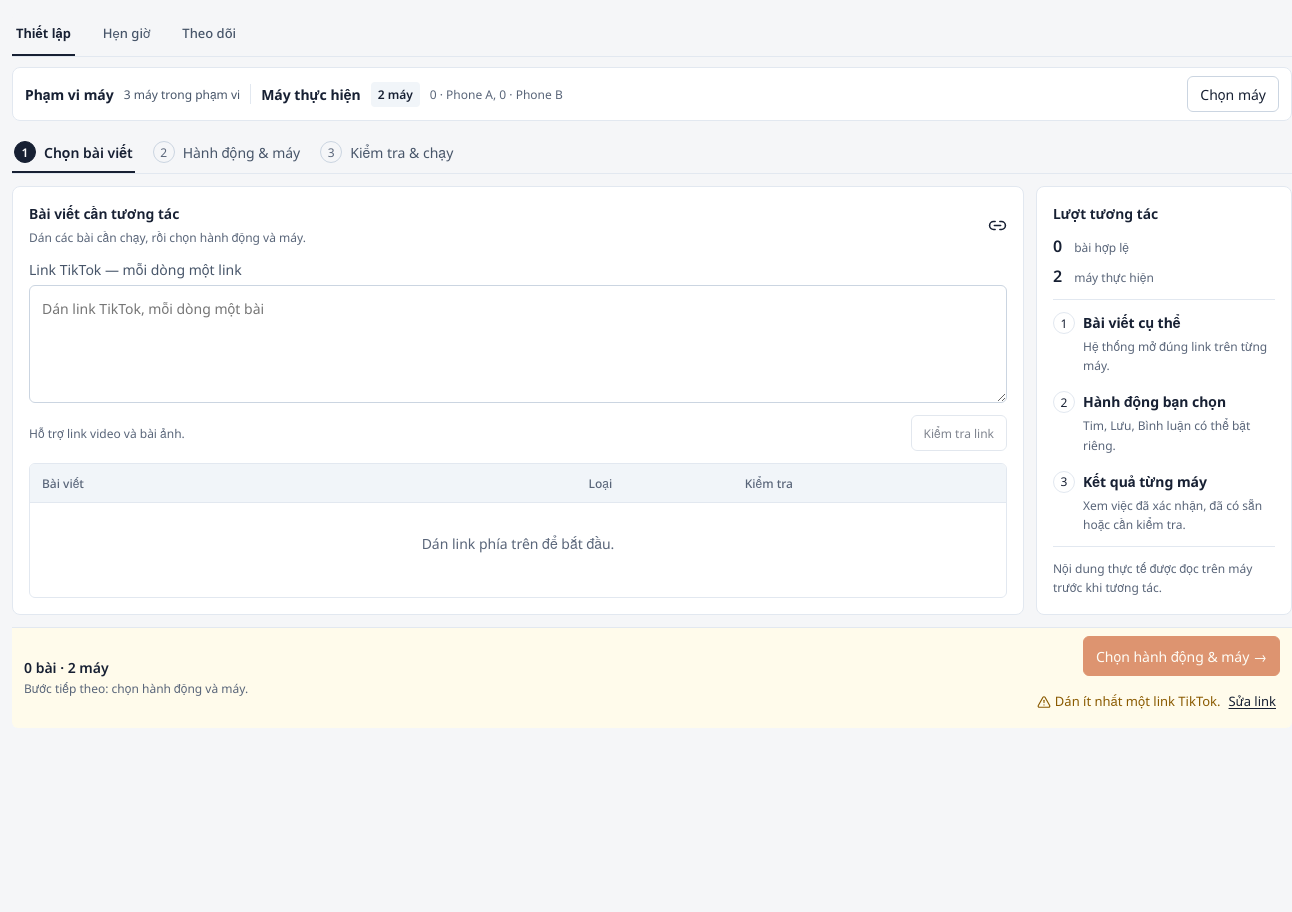
Test: keeps obsolete profiles out of setup and exposes schedules from settings
Click the tab "Hẹn giờ" at [127, 34], box [99, 12, 154, 56]
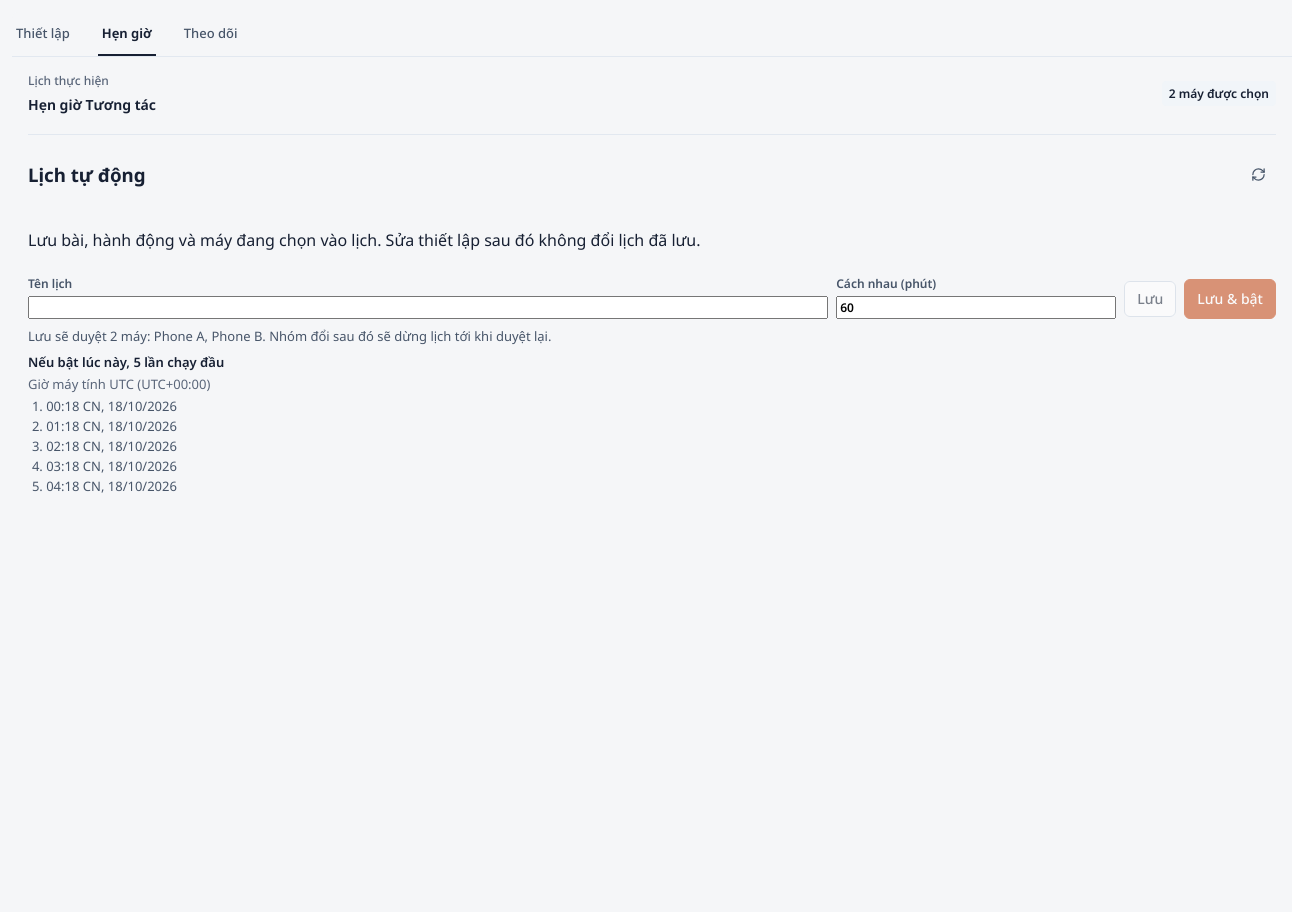
Check: the element named "Hẹn giờ từ thiết lập" is shown, box [28, 134, 1276, 495]
